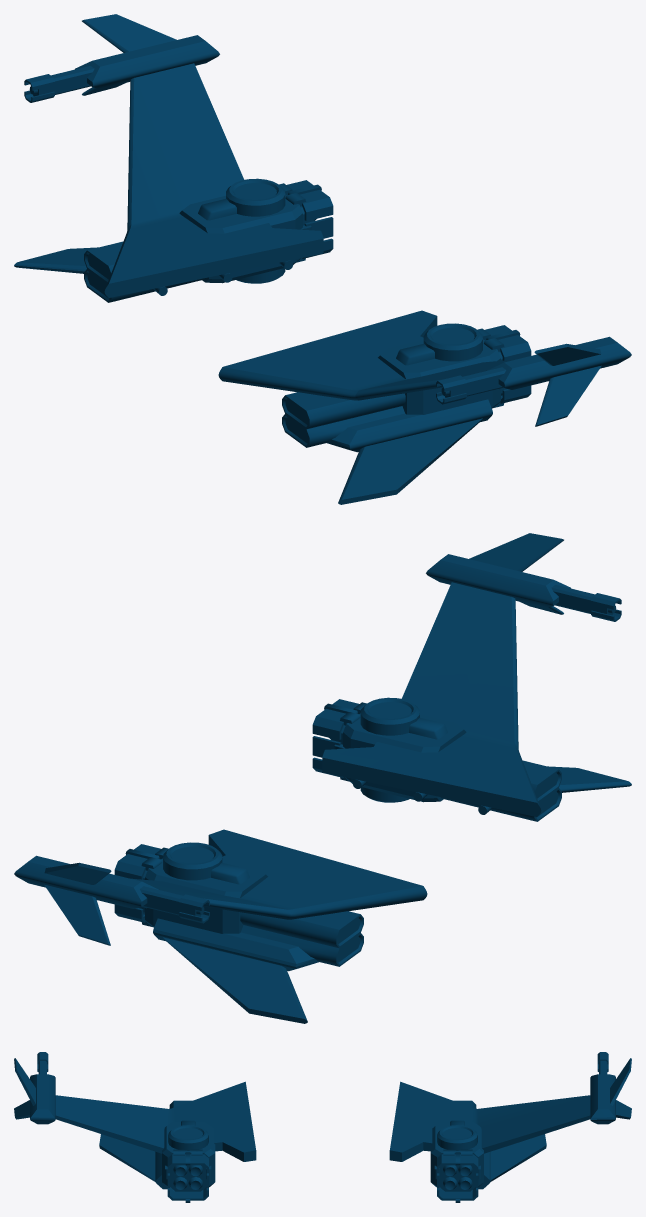
The model's file is SSv1_BWings_v1.FBX.
The picture shows the model from 3 angles, top to bottom: view 1: azimuth 30°, elevation 25°; view 2: azimuth 150°, elevation 25°; view 3: azimuth 270°, elevation 25°; orthographic projection. The views are drawn at different scales.
Visible parts, largest first — view 1: SSv1_BWings_v1; view 2: SSv1_BWings_v1; view 3: SSv1_BWings_v1.
Part boxes in pixels (x1,y1,x2,y2): SSv1_BWings_v1: (14,14,631,504); SSv1_BWings_v1: (14,533,631,1023); SSv1_BWings_v1: (14,1052,631,1202).
Bounding box in the file's own units: 28.9 × 18.28 × 88.19.
